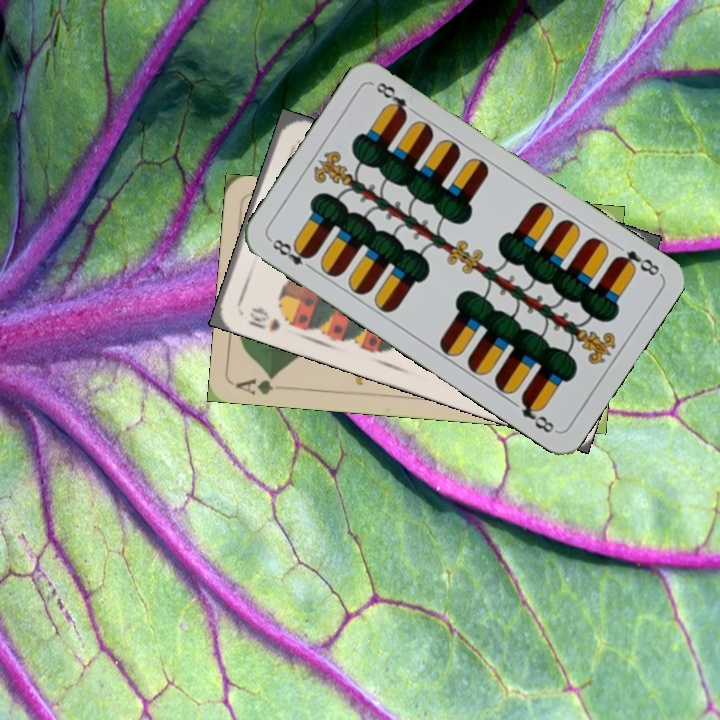E8: (266, 234, 317, 274), (611, 246, 663, 279)
GA: (233, 370, 278, 397)
S10: (245, 303, 283, 334)
